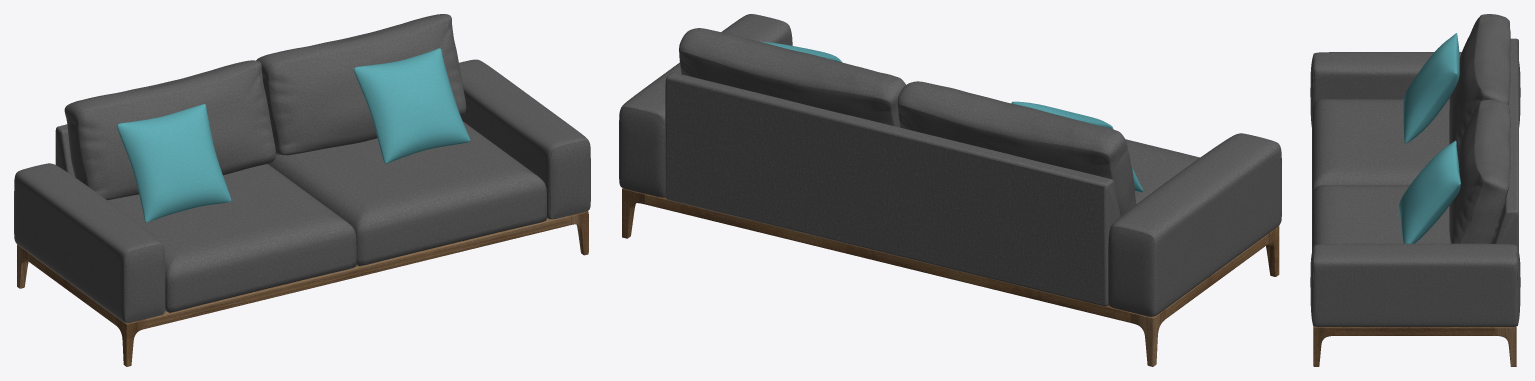
The model's file is chair.gltf.
3 views of the same model, side by side, from view 1: azimuth 30°, elevation 25°; view 2: azimuth 150°, elevation 25°; view 3: azimuth 270°, elevation 25° (orthographic). The views are drawn at different scales.
Parts seen in each view (by area): view 1: Cube.004, Cube.006, perna_lowres.000, perna_lowres.004, Cube, perna_medie.cute_baked, perna_medie.cute_baked.001, Cube.001, C_739_canapea012; view 2: C_739_canapea012, Cube.006, perna_lowres.000, perna_lowres.004, Cube.001, Cube, Cube.004, perna_medie.cute_baked; view 3: Cube, Cube.004, perna_lowres.004, Cube.006, perna_lowres.000, perna_medie.cute_baked.001, perna_medie.cute_baked, C_739_canapea012, Cube.001.
Part boxes in pixels (x1,y1,x2,y2): Cube.004: [107, 121, 546, 312]; Cube.006: [14, 163, 165, 322]; perna_lowres.000: [64, 60, 275, 200]; perna_lowres.004: [256, 14, 466, 155]; Cube: [459, 59, 590, 219]; perna_medie.cute_baked: [117, 104, 231, 222]; perna_medie.cute_baked.001: [354, 48, 470, 163]; Cube.001: [17, 211, 588, 366]; C_739_canapea012: [55, 124, 74, 176]; C_739_canapea012: [665, 72, 1120, 306]; Cube.006: [1108, 133, 1281, 316]; perna_lowres.000: [897, 81, 1136, 216]; perna_lowres.004: [679, 28, 905, 127]; Cube.001: [622, 188, 1279, 366]; Cube: [619, 14, 792, 197]; Cube.004: [1125, 139, 1199, 204]; perna_medie.cute_baked: [1011, 101, 1143, 192]; Cube: [1310, 243, 1520, 326]; Cube.004: [1312, 99, 1450, 251]; perna_lowres.004: [1449, 99, 1510, 243]; Cube.006: [1310, 52, 1520, 126]; perna_lowres.000: [1449, 14, 1510, 150]; perna_medie.cute_baked.001: [1398, 140, 1460, 243]; perna_medie.cute_baked: [1403, 33, 1459, 143]; C_739_canapea012: [1493, 38, 1518, 251]; Cube.001: [1313, 326, 1516, 366].
Bounding box in the file's own units: 2.29 × 0.8499 × 0.9618.
4 materials, 4 textured.
